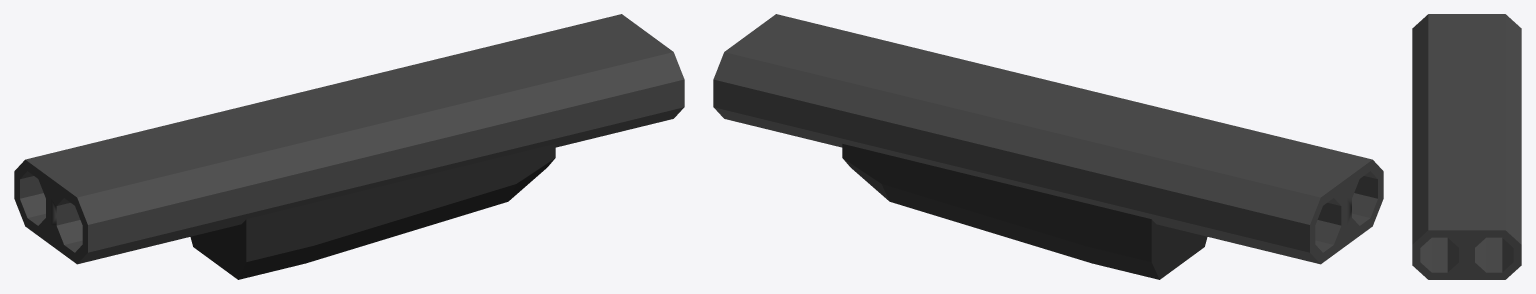
The model's file is Shotgun4_02_2.fbx.
3 renders of one model, left to right at view 1: azimuth 30°, elevation 25°; view 2: azimuth 150°, elevation 25°; view 3: azimuth 270°, elevation 25°, orthographic. The views are drawn at different scales.
Visible parts, largest first — view 1: Shotgun4_02_2; view 2: Shotgun4_02_2; view 3: Shotgun4_02_2.
Part boxes in pixels (left/top/right/bottom): Shotgun4_02_2: left=14, top=14, right=684, bottom=279; Shotgun4_02_2: left=713, top=14, right=1383, bottom=279; Shotgun4_02_2: left=1412, top=14, right=1521, bottom=279.
Size of the model in its own units: 0.2847 by 0.057 by 0.0608.
